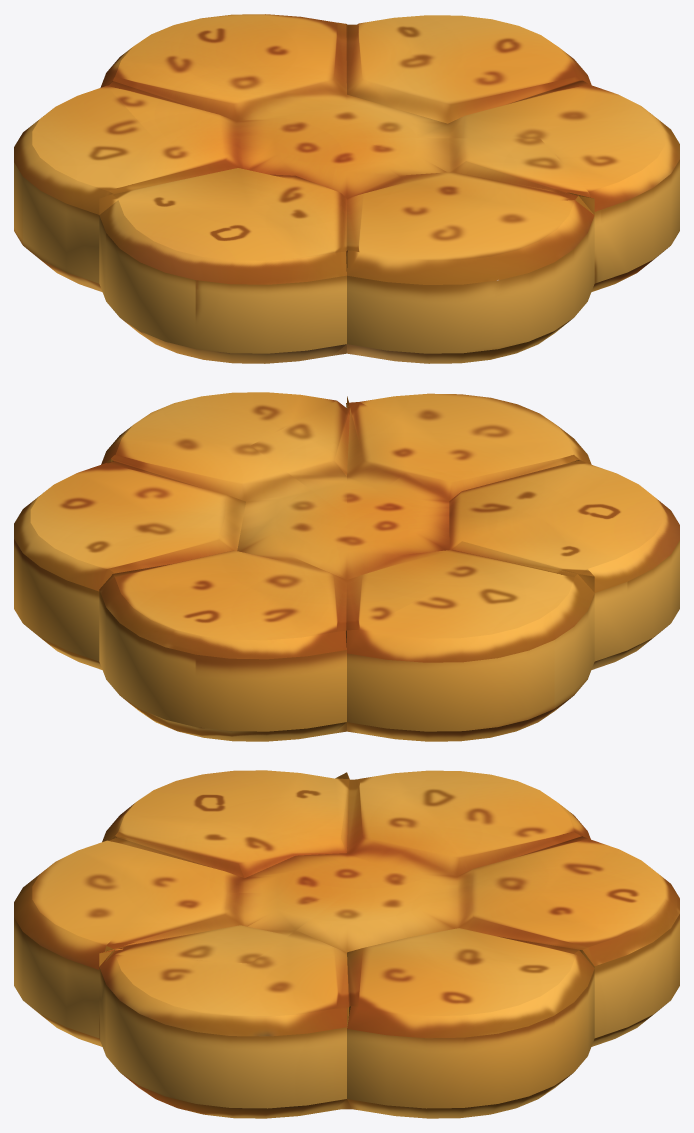
Rendered from coookieProd.fbx.
3 views of the same model, one above another, from view 1: azimuth 30°, elevation 25°; view 2: azimuth 150°, elevation 25°; view 3: azimuth 270°, elevation 25° (orthographic).
Visible parts, largest first — view 1: Cylinder; view 2: Cylinder; view 3: Cylinder.
Boxes of the visible parts, <box> form: Cylinder: <box>14,14,679,363</box>; Cylinder: <box>14,392,679,741</box>; Cylinder: <box>14,770,679,1118</box>.
Size of the model in its own units: 135 by 25.14 by 146.
Materials: 1 (1 with a texture image).
